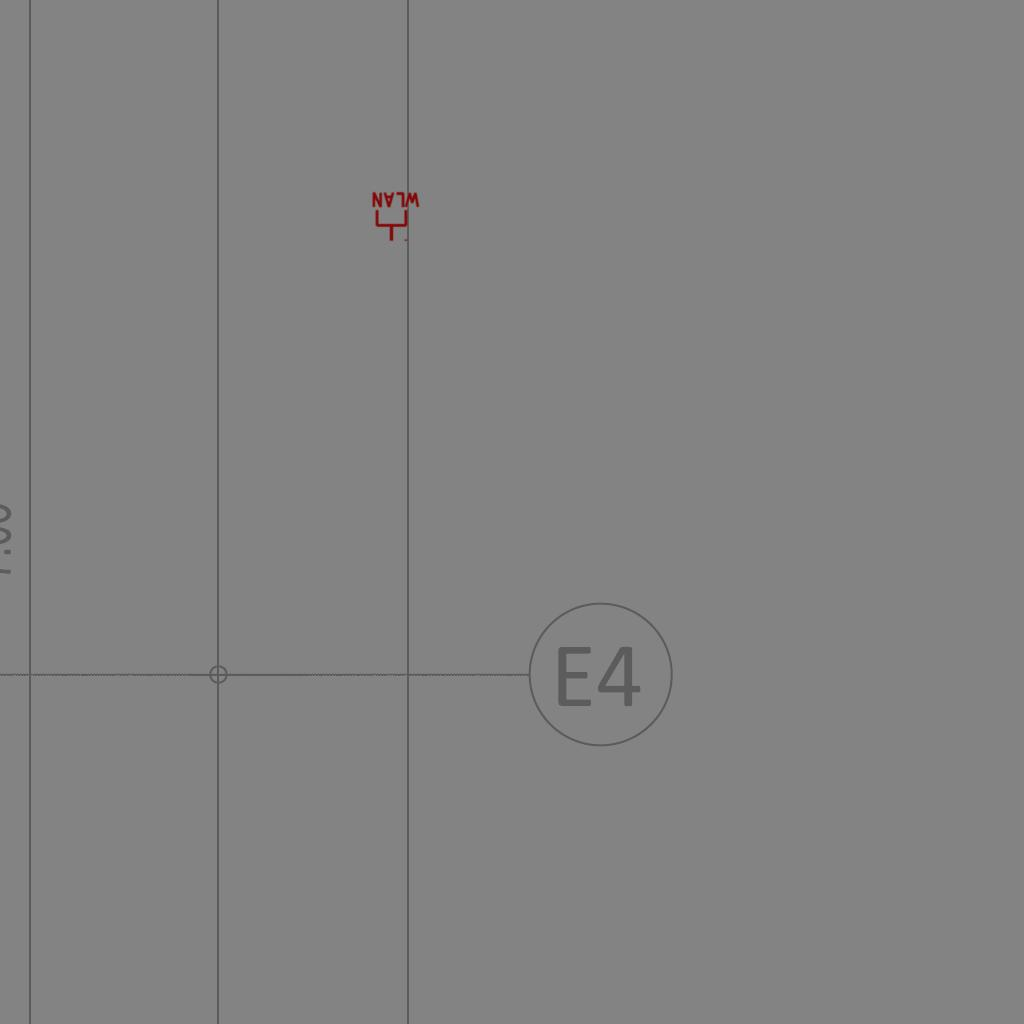WLAN: (370, 191, 422, 243)
